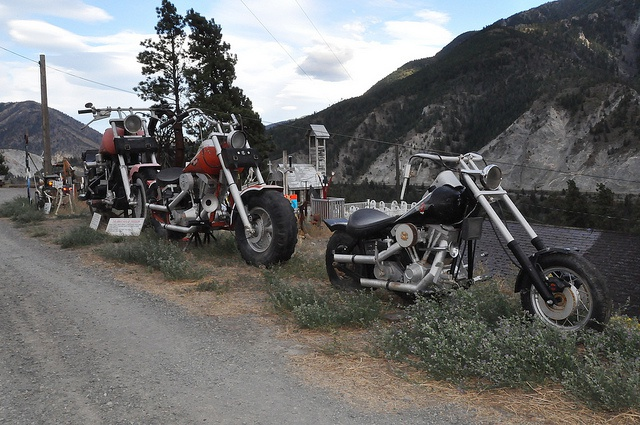non-vehicle: (323, 151, 613, 332), (145, 107, 298, 267), (78, 104, 167, 228)
